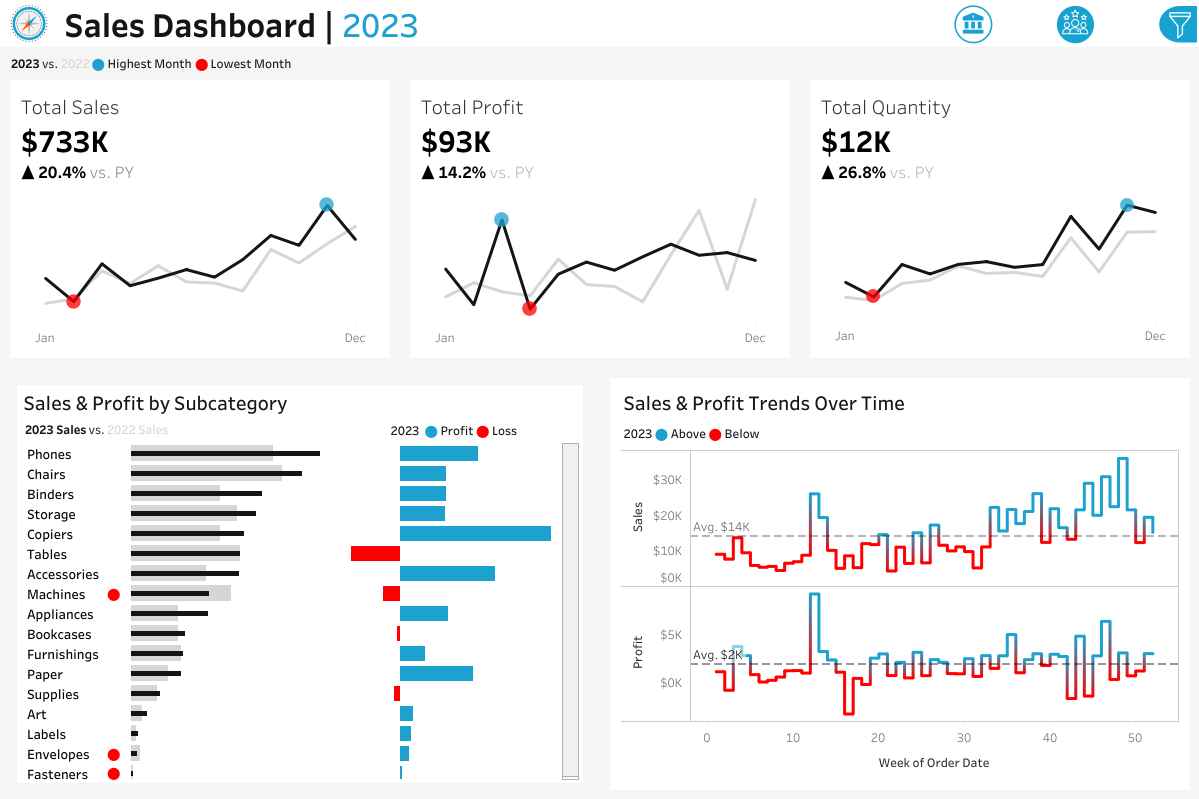

What the dashboard file says about the page in this screenshot:
{"tool":"tableau","page":{"name":"Sales Dashboard","canvas":[1200,800],"ordinal":1},"visuals":[{"type":"image","param":"C:/Users/hp/Downloads/Success path/TABLEAU/TableauProject-SalesDashboard/Icons/I","box":[0,0,58,47]},{"type":"text","box":[58,0,1142,47]},{"type":"dashboard-object","box":[922,1,103,47]},{"type":"dashboard-object","box":[1025,1,102,47]},{"type":"blank","box":[956,10,232,51]},{"type":"worksheet","title":"Legend KPI","mark":"Automatic","box":[0,47,1200,33]},{"type":"text","box":[956,61,232,32]},{"type":"worksheet","title":"Total Sales","mark":"Line","rows":["MIN/MAX ORDERS (copy)_803329651691155481"],"cols":["Order Date"],"box":[0,80,400,288]},{"type":"worksheet","title":"Total Profit","mark":"Line","rows":["Calculation_326792514722119695"],"cols":["Order Date"],"box":[400,80,400,288]},{"type":"worksheet","title":"Total Quantity","mark":"Automatic","rows":["Calculation_326792514745171998"],"cols":["Order Date"],"box":[800,80,400,288]},{"type":"parameter","param":"[Parameters].[Parameter 1]","box":[956,93,232,52]},{"type":"blank","box":[956,145,232,32]},{"type":"text","box":[956,177,232,29]},{"type":"filter","title":"Total Profit","param":"[federated.0uw51l70mxvgwb10nkyxf0ydap6d].[none:Category:nk]","box":[956,206,232,52]},{"type":"filter","title":"Total Profit","param":"[federated.0uw51l70mxvgwb10nkyxf0ydap6d].[none:Sub-Category:nk]","box":[956,258,232,52]},{"type":"blank","box":[956,310,232,32]},{"type":"text","box":[956,342,232,29]},{"type":"filter","title":"Total Profit","param":"[federated.0uw51l70mxvgwb10nkyxf0ydap6d].[none:Region:nk]","box":[956,371,232,52]},{"type":"text","box":[17,385,566,34]},{"type":"text","box":[617,385,566,34]},{"type":"worksheet","title":"Legend Subcategory","mark":"Automatic","box":[17,419,367,20.3]},{"type":"text","box":[384,419,199,20.3]},{"type":"text","box":[617,419,566,25]},{"type":"filter","title":"Total Profit","param":"[federated.0uw51l70mxvgwb10nkyxf0ydap6d].[none:State:nk]","box":[956,423,232,52]},{"type":"worksheet","title":"Subcategory Comparison","mark":"Bar","rows":["Sub-Category","Calculation_326792514758889505"],"cols":["Calculation_326792514097864707","Calculation_326792514096664578","Calculation_326792514714644492"],"box":[17,439.3,566,343.7]},{"type":"worksheet","title":"Weekly Trend","mark":"Automatic","rows":["Calculation_326792514096664578","Calculation_326792514714644492"],"cols":["Order Date"],"box":[617,444,566,339]},{"type":"filter","title":"Total Profit","param":"[federated.0uw51l70mxvgwb10nkyxf0ydap6d].[none:City:nk]","box":[956,475,232,52]}]}

Visuals, with their boxes in screenshot pixels (x1, y1, x2, y2), scaled from the page's 1200x800 canvas onto the 1199x799 screenshot:
image: (x1=0, y1=0, x2=58, y2=47)
text: (x1=58, y1=0, x2=1198, y2=47)
dashboard-object: (x1=921, y1=1, x2=1024, y2=48)
dashboard-object: (x1=1024, y1=1, x2=1126, y2=48)
blank: (x1=955, y1=10, x2=1187, y2=61)
"Legend KPI" worksheet: (x1=0, y1=47, x2=1198, y2=80)
text: (x1=955, y1=61, x2=1187, y2=93)
"Total Sales" worksheet (Line marks): (x1=0, y1=80, x2=400, y2=368)
"Total Profit" worksheet (Line marks): (x1=400, y1=80, x2=799, y2=368)
"Total Quantity" worksheet: (x1=799, y1=80, x2=1198, y2=368)
parameter: (x1=955, y1=93, x2=1187, y2=145)
blank: (x1=955, y1=145, x2=1187, y2=177)
text: (x1=955, y1=177, x2=1187, y2=206)
"Total Profit" filter: (x1=955, y1=206, x2=1187, y2=258)
"Total Profit" filter: (x1=955, y1=258, x2=1187, y2=310)
blank: (x1=955, y1=310, x2=1187, y2=342)
text: (x1=955, y1=342, x2=1187, y2=371)
"Total Profit" filter: (x1=955, y1=371, x2=1187, y2=422)
text: (x1=17, y1=385, x2=583, y2=418)
text: (x1=616, y1=385, x2=1182, y2=418)
"Legend Subcategory" worksheet: (x1=17, y1=418, x2=384, y2=439)
text: (x1=384, y1=418, x2=583, y2=439)
text: (x1=616, y1=418, x2=1182, y2=443)
"Total Profit" filter: (x1=955, y1=422, x2=1187, y2=474)
"Subcategory Comparison" worksheet (Bar marks): (x1=17, y1=439, x2=583, y2=782)
"Weekly Trend" worksheet: (x1=616, y1=443, x2=1182, y2=782)
"Total Profit" filter: (x1=955, y1=474, x2=1187, y2=526)
